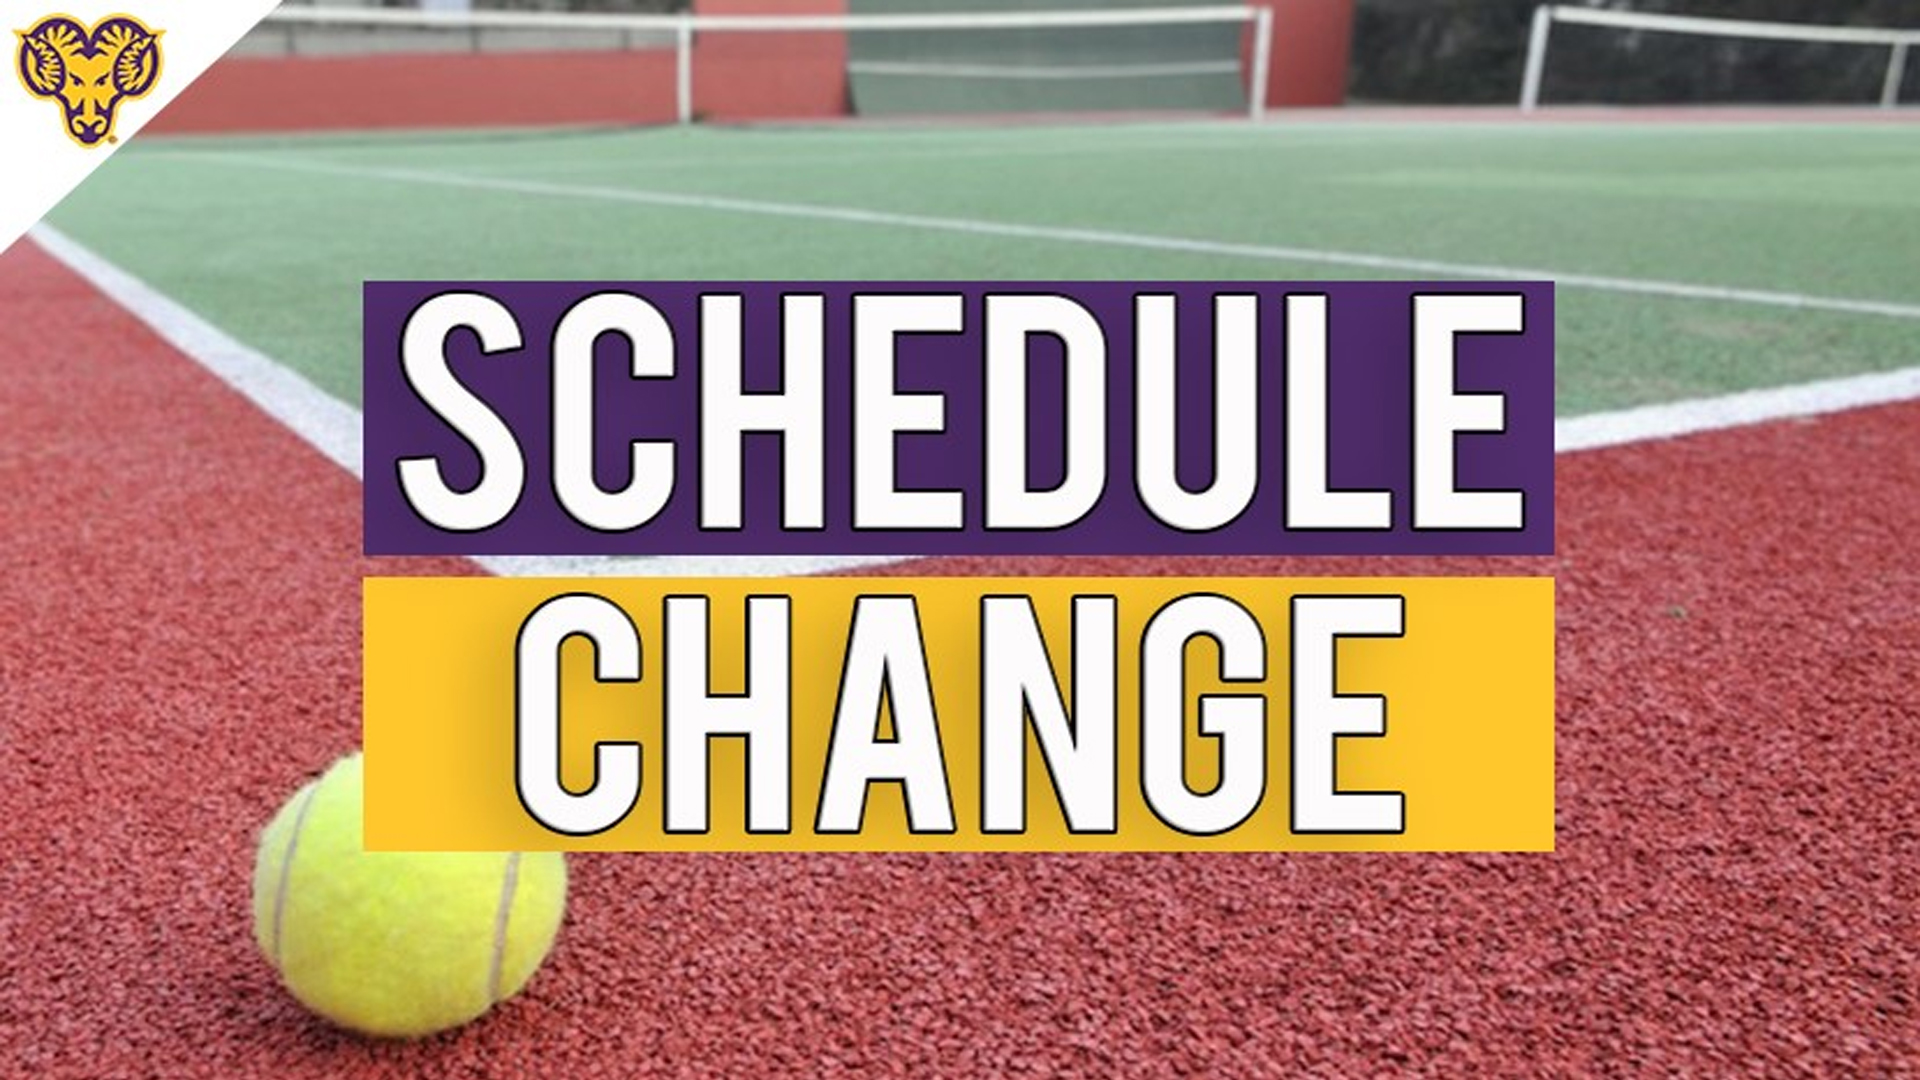tennis_ball: (251, 752, 572, 1035)
